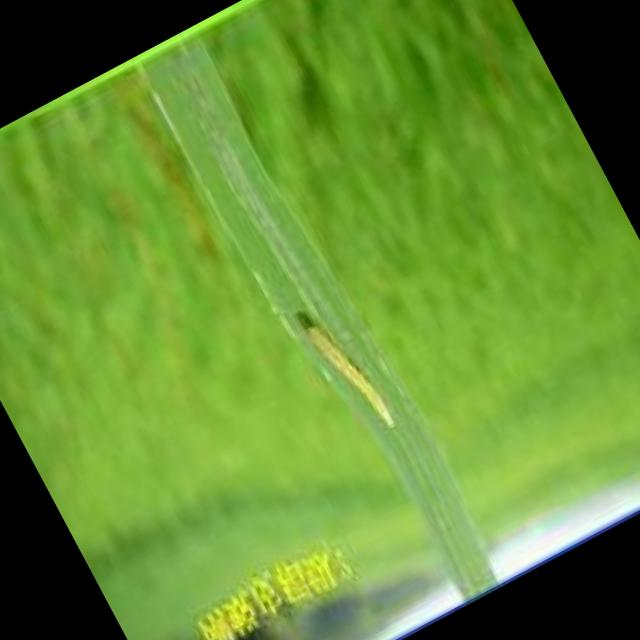leaf-folder: (287, 283, 421, 459)
